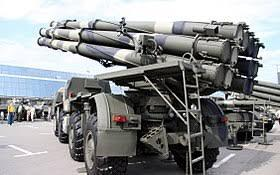MIL_SAM_TEL: (32, 19, 264, 175)
